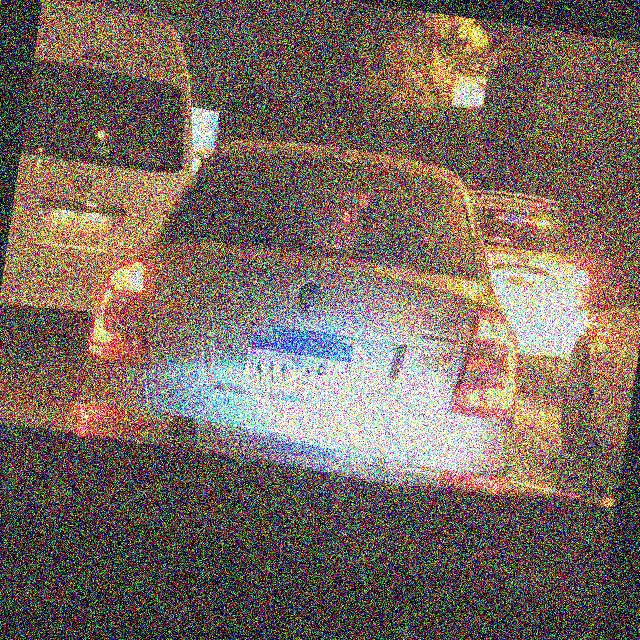License Plate: (239, 320, 356, 405)
